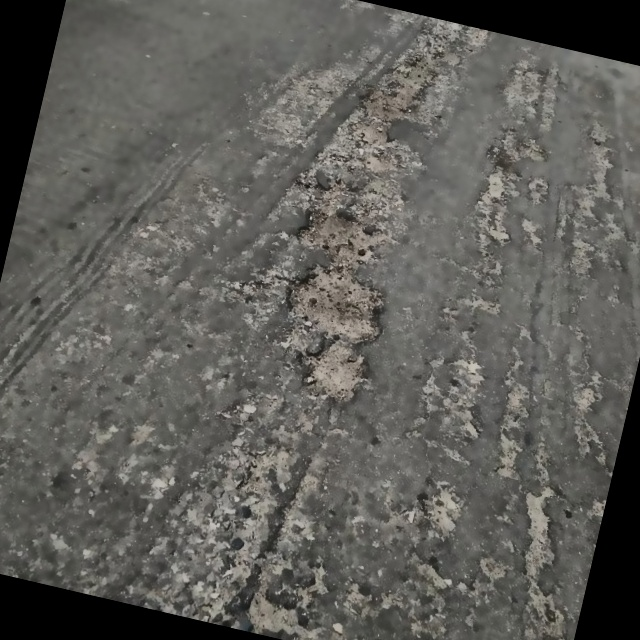pothole: (276, 255, 398, 347), (341, 44, 437, 156), (288, 202, 395, 271), (508, 474, 577, 578), (294, 329, 378, 411), (245, 587, 318, 640), (418, 478, 474, 536)
